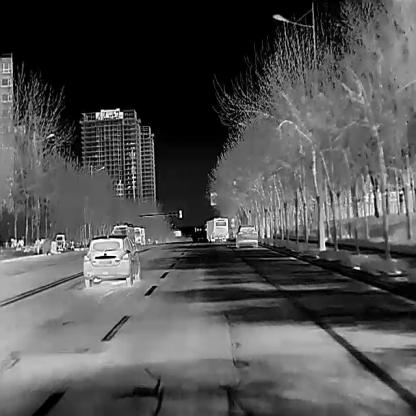bus: (206, 217, 229, 241), (111, 222, 135, 245), (134, 224, 146, 245)
car: (82, 234, 140, 284), (235, 223, 258, 247)
